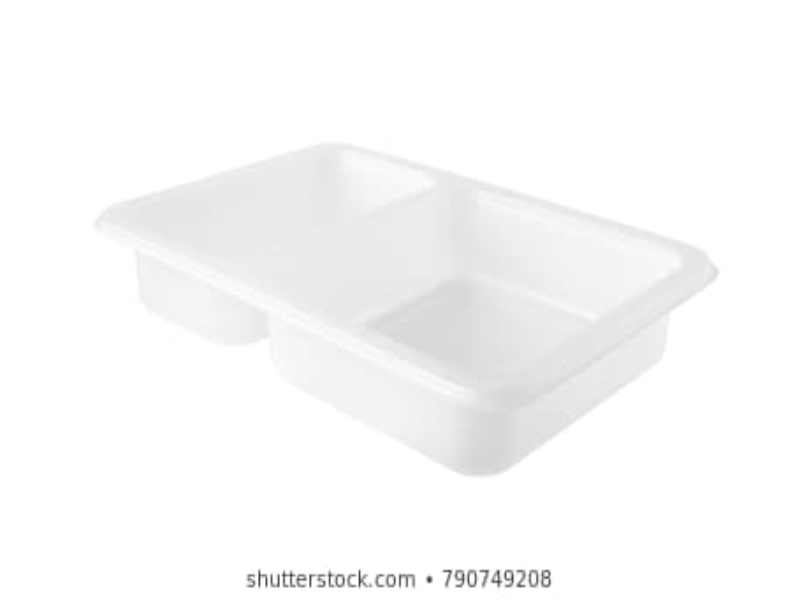plastic-container: (97, 135, 724, 479)
